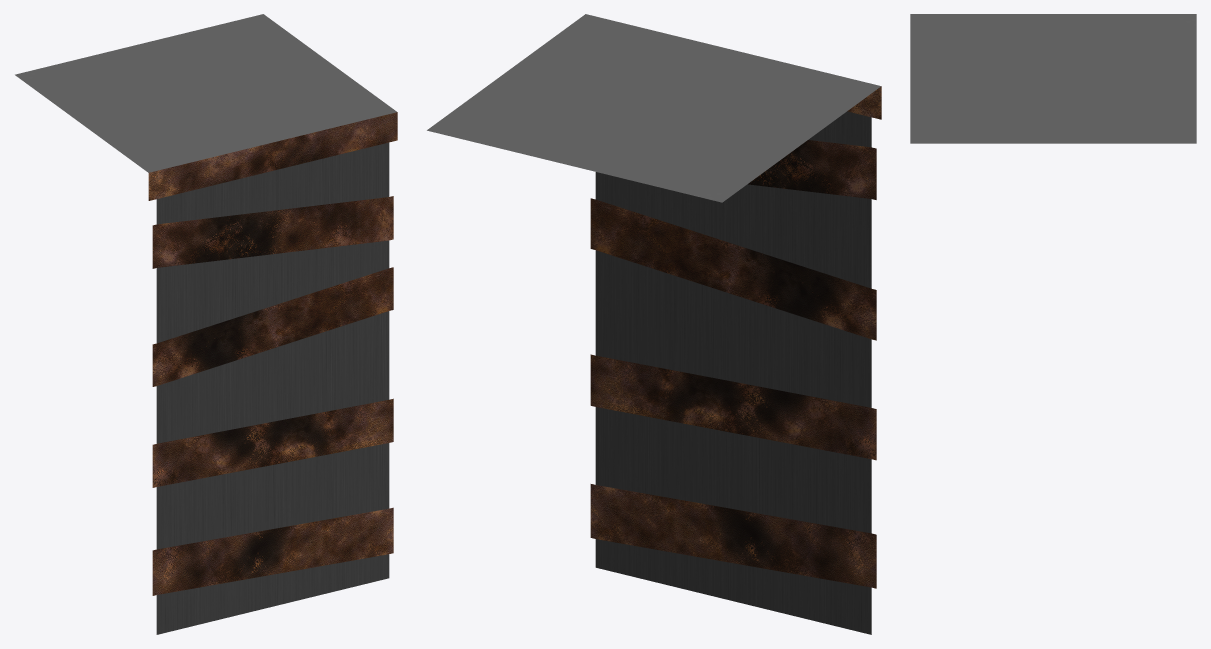
File: MetalBox.fbx
The picture shows the model from 3 angles, left to right: view 1: azimuth 30°, elevation 25°; view 2: azimuth 150°, elevation 25°; view 3: azimuth 270°, elevation 25°; orthographic projection. The views are drawn at different scales.
Parts seen in each view (by area): view 1: pCube1; view 2: pCube1; view 3: pCube1.
Boxes of the visible parts, box(x1,y1,x2,y2) form: pCube1: box(15, 14, 397, 634); pCube1: box(427, 14, 881, 634); pCube1: box(910, 14, 1196, 143).
Size of the model in its own units: 2.93 by 5.22 by 2.73.
1 material, 1 textured.
